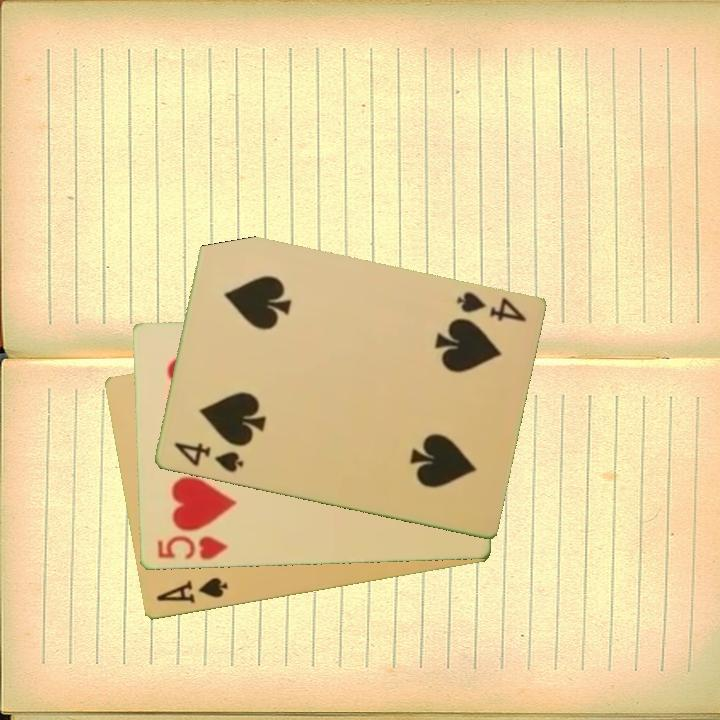4s: (452, 288, 529, 325), (170, 439, 246, 476)
5h: (153, 532, 230, 563)
As: (152, 574, 230, 607)
